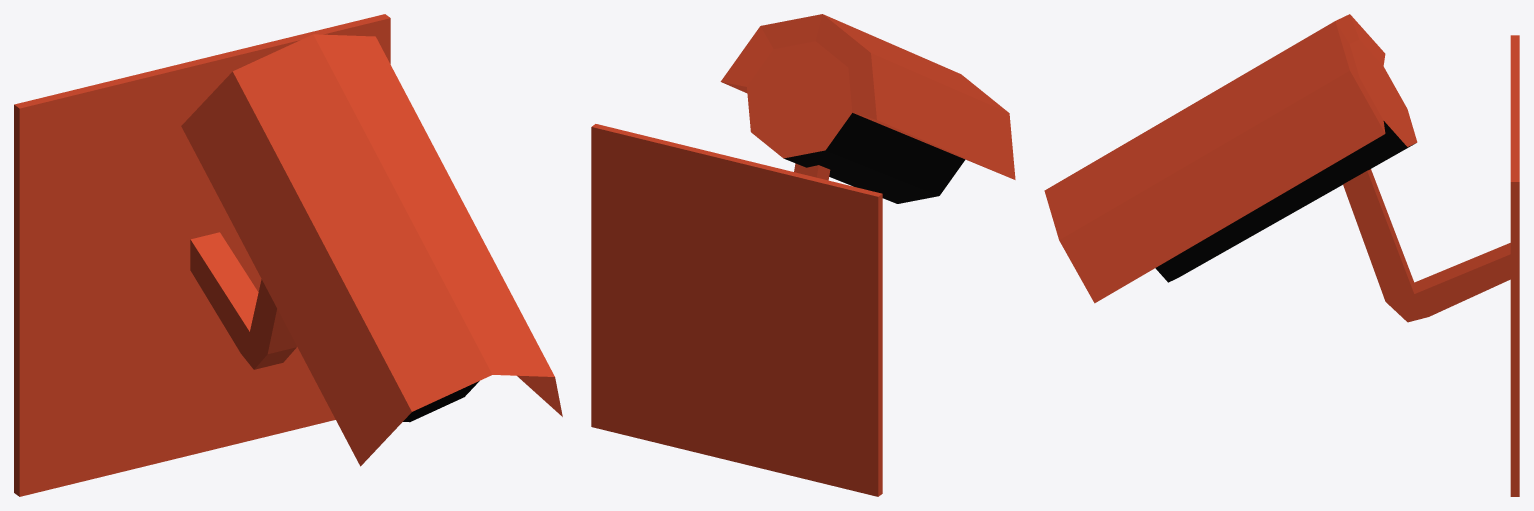
The model's file is Camera.fbx.
3 views of the same model, side by side, from view 1: azimuth 30°, elevation 25°; view 2: azimuth 150°, elevation 25°; view 3: azimuth 270°, elevation 25° (orthographic). The views are drawn at different scales.
Parts seen in each view (by area): view 1: Cylinder; view 2: Cylinder; view 3: Cylinder.
Part boxes in pixels (x1,y1,x2,y2): Cylinder: (14,14,562,496); Cylinder: (591,14,1015,496); Cylinder: (1044,14,1519,496).
Size of the model in its own units: 182 by 233 by 249.
